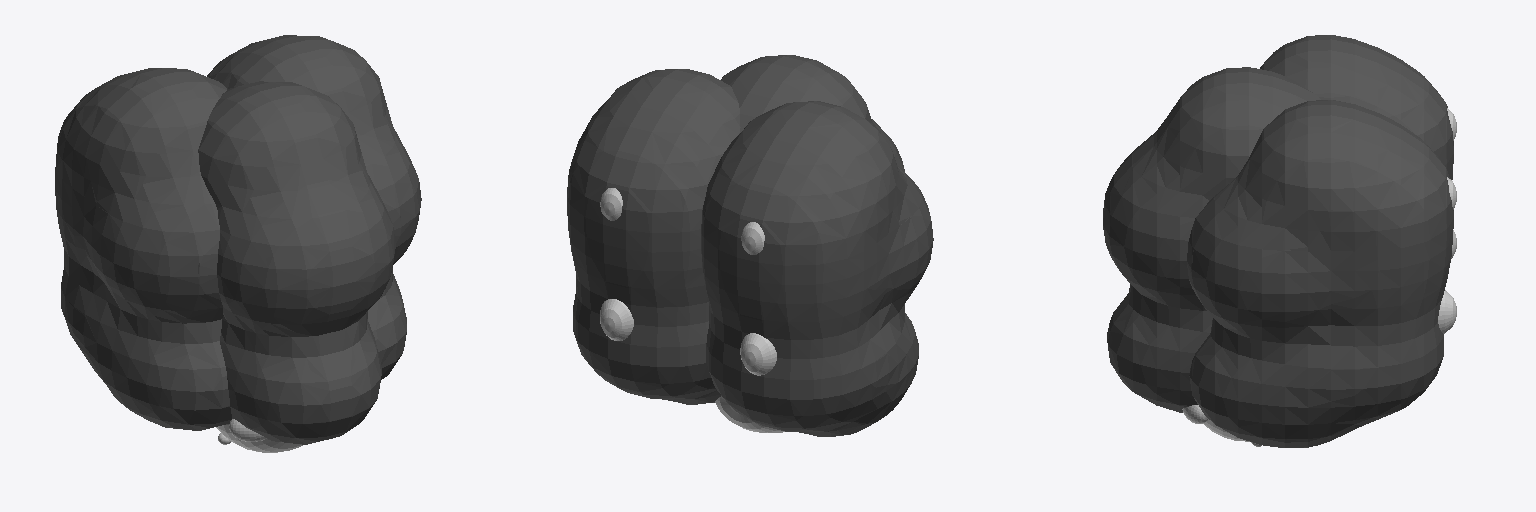
File: wool.obj
The picture shows the model from 3 angles: view 1: azimuth 30°, elevation 25°; view 2: azimuth 150°, elevation 25°; view 3: azimuth 270°, elevation 25°; orthographic projection.
Parts seen in each view (by area): view 1: Mball.001; view 2: Mball.001; view 3: Mball.001.
Part boxes in pixels (x1,y1,x2,y2): Mball.001: (55,35,421,452); Mball.001: (567,55,933,436); Mball.001: (1103,35,1456,447).
Bounding box in the file's own units: 0.9 × 1 × 0.9.